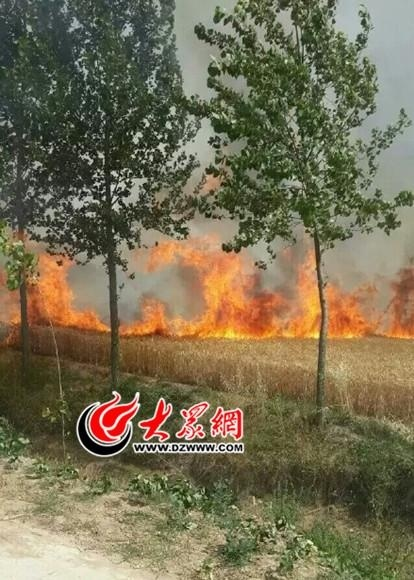fire: (136, 232, 410, 343), (22, 247, 108, 332)
